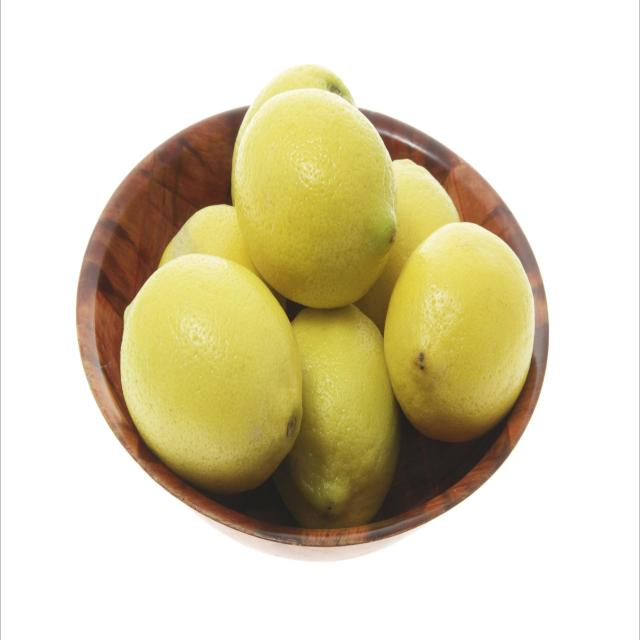lemon: (230, 86, 400, 312)
